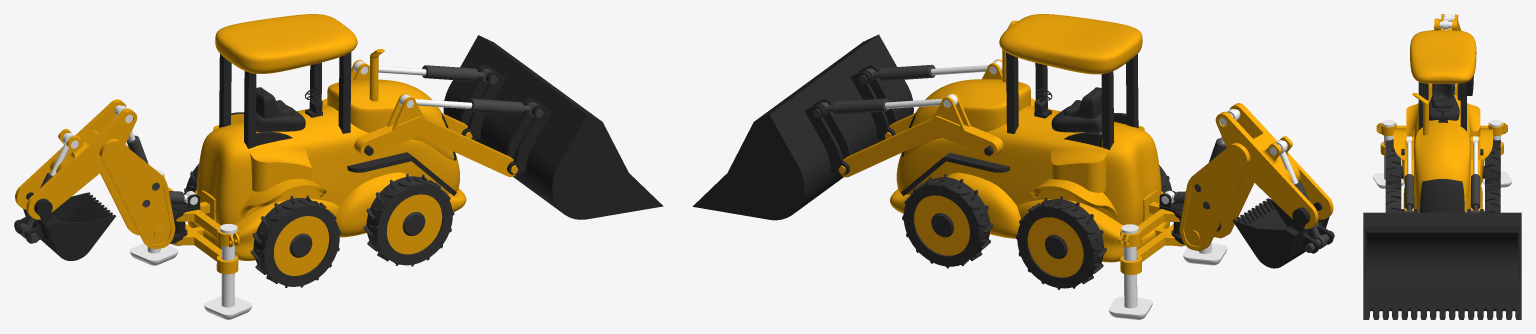
File: Dozer X Excavator Toy.glb
3 renders of one model, left to right at view 1: azimuth 30°, elevation 25°; view 2: azimuth 150°, elevation 25°; view 3: azimuth 270°, elevation 25°, orthographic. The views are drawn at different scales.
Visible parts, largest first — view 1: Solid1 (×16), Solid8, Solid2 (×2), Solid7, Solid6, Solid3, Solid4; view 2: Solid1 (×16), Solid8, Solid2 (×2), Solid7, Solid6, Solid3, Solid4; view 3: Solid1 (×15), Solid2, Solid8, Solid4, Solid3, Solid6.
Part boxes in pixels (bbox=[...]): Solid1 (×16): bbox=[14, 35, 663, 319]; Solid8: bbox=[215, 14, 357, 73]; Solid2 (×2): bbox=[327, 65, 551, 175]; Solid7: bbox=[335, 172, 466, 237]; Solid6: bbox=[188, 189, 339, 260]; Solid3: bbox=[256, 105, 305, 131]; Solid4: bbox=[256, 87, 293, 118]; Solid1 (×16): bbox=[692, 20, 1333, 319]; Solid8: bbox=[999, 14, 1142, 74]; Solid2 (×2): bbox=[805, 64, 1030, 175]; Solid7: bbox=[890, 172, 1020, 238]; Solid6: bbox=[1017, 191, 1169, 262]; Solid3: bbox=[1051, 106, 1101, 132]; Solid4: bbox=[1063, 87, 1101, 118]; Solid1 (×15): bbox=[1363, 14, 1521, 319]; Solid2: bbox=[1414, 122, 1470, 212]; Solid8: bbox=[1410, 30, 1476, 83]; Solid4: bbox=[1432, 83, 1453, 108]; Solid3: bbox=[1429, 95, 1459, 120]; Solid6: bbox=[1402, 159, 1484, 184].
Size of the model in its own units: 0.1546 by 0.0591 by 0.05.
